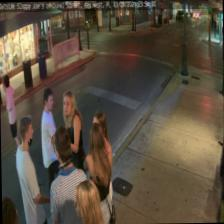person: (47, 125, 86, 224), (14, 114, 49, 224), (82, 122, 113, 224), (38, 87, 64, 207), (60, 90, 86, 204), (88, 109, 111, 215), (72, 178, 102, 224)
